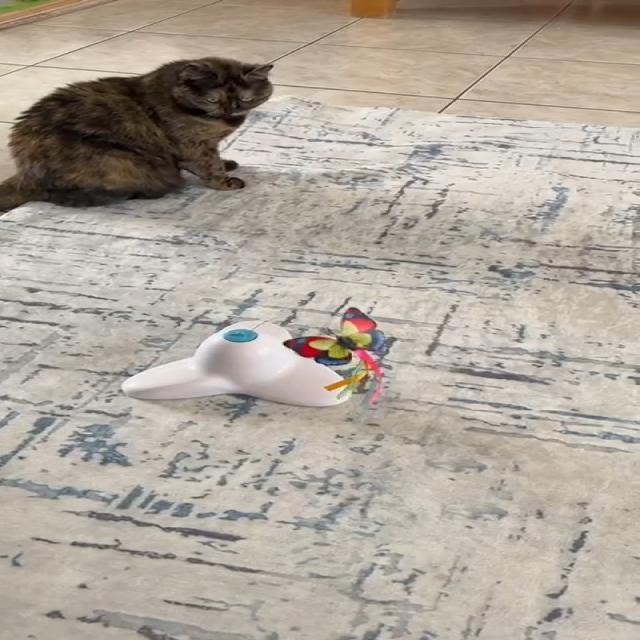authorized: (0, 55, 273, 212)
